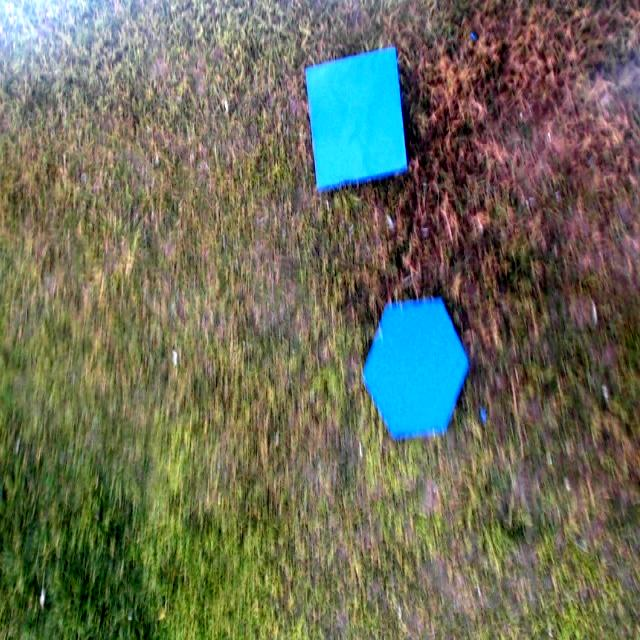blue_hexagon: (304, 46, 409, 190), (363, 297, 469, 438)
